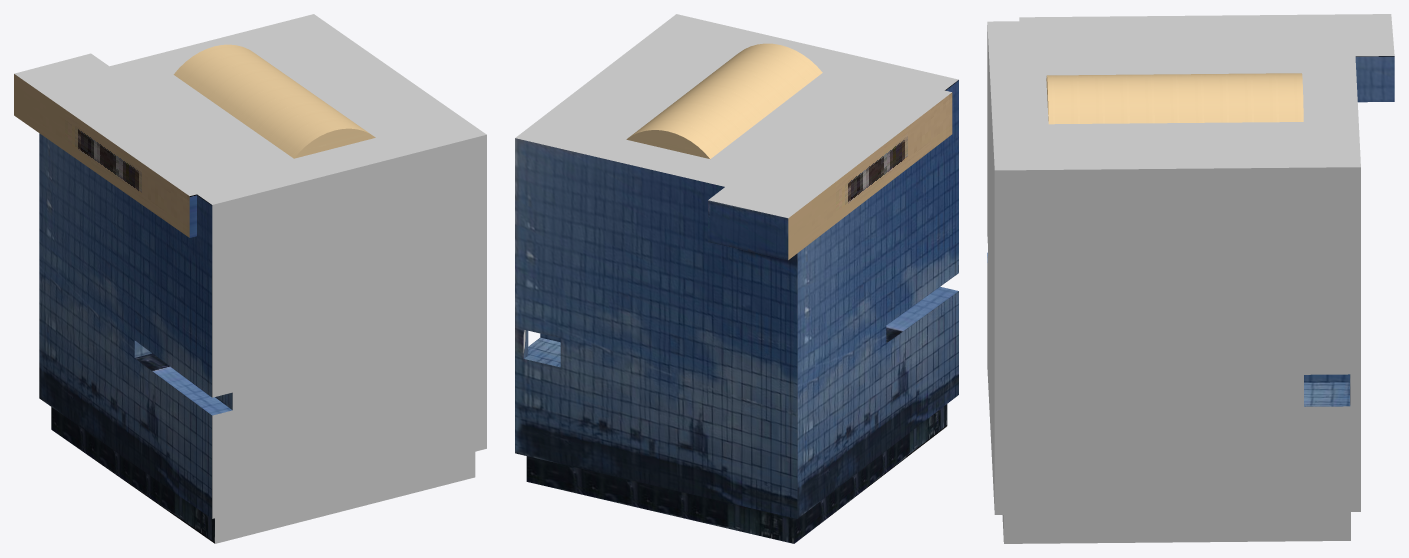
Rendered from Raiffeisen.fbx.
The picture shows the model from 3 angles, left to right: view 1: azimuth 30°, elevation 25°; view 2: azimuth 150°, elevation 25°; view 3: azimuth 270°, elevation 25°; orthographic projection. The views are drawn at different scales.
Visible parts, largest first — view 1: Model; view 2: Model; view 3: Model.
Boxes of the visible parts, x1,y1,x2,y2 form: Model: (14, 14, 486, 543); Model: (515, 14, 958, 543); Model: (987, 14, 1394, 543).
Size of the model in its own units: 30308 by 35871 by 33351.
